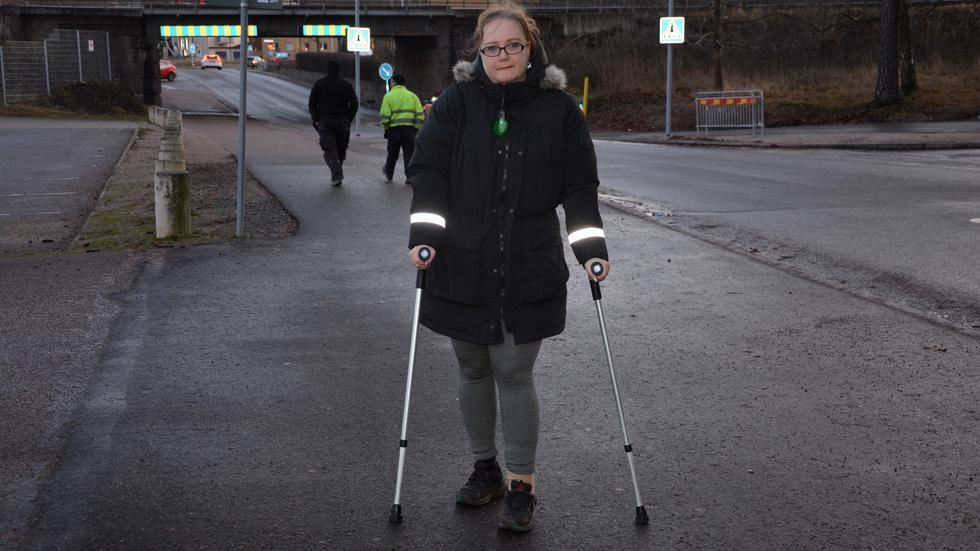crutches: (382, 0, 653, 548)
